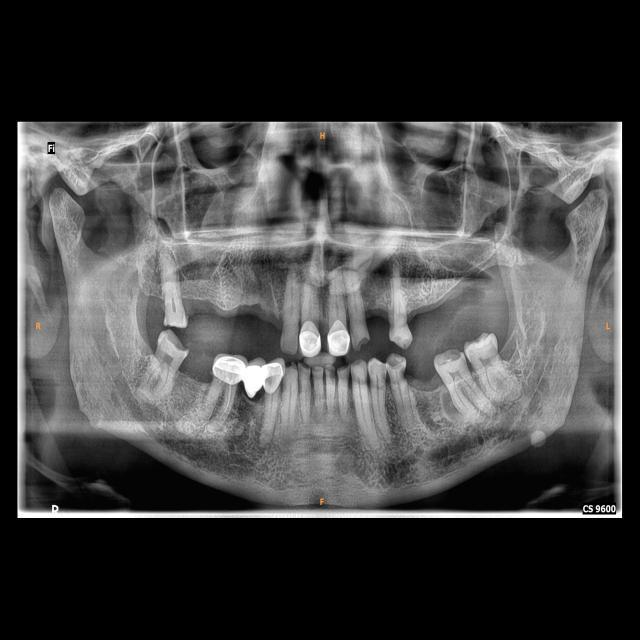dentin-curugu: (442, 349, 462, 366)
kanal-tedavisi: (222, 380, 234, 419)
kaplama: (211, 351, 244, 383), (298, 317, 321, 357), (328, 320, 350, 358), (267, 358, 285, 395)
kirik: (354, 331, 372, 351)
kopru: (237, 356, 269, 405)
